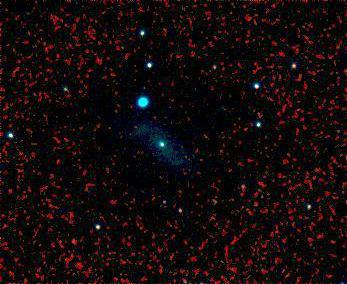star: (63, 228, 93, 258)
